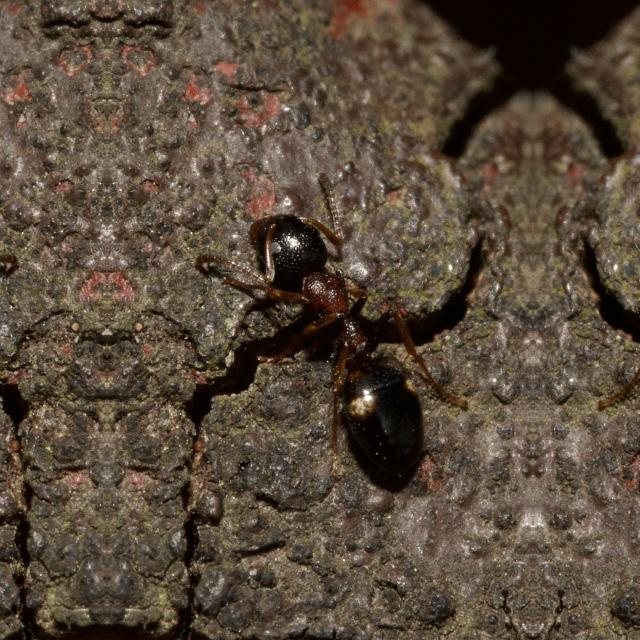Dolichoderus: (225, 122, 470, 512)
